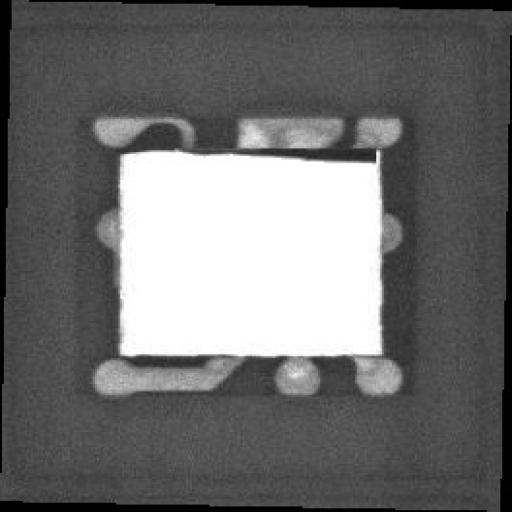DIE_BROKEN: (177, 139, 378, 165)
